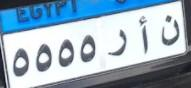5: (76, 31, 99, 65), (55, 37, 76, 70), (10, 47, 31, 78), (33, 43, 53, 75)
alif: (137, 16, 151, 54)
noon: (157, 12, 181, 49)
raa: (108, 27, 130, 62)
